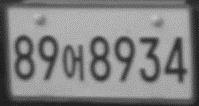3: (136, 35, 162, 82)
4: (163, 36, 189, 84)
8: (88, 35, 111, 82), (14, 34, 35, 81)
9: (37, 34, 59, 80), (114, 35, 135, 82)
어: (62, 43, 85, 81)
